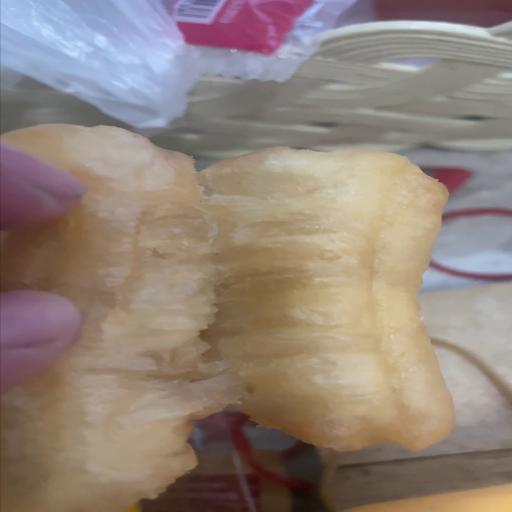street_golden_defect: (0, 133, 452, 501)
